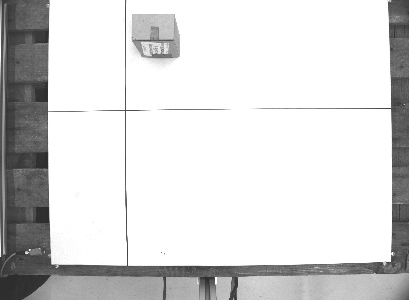b6: (128, 9, 182, 59)
